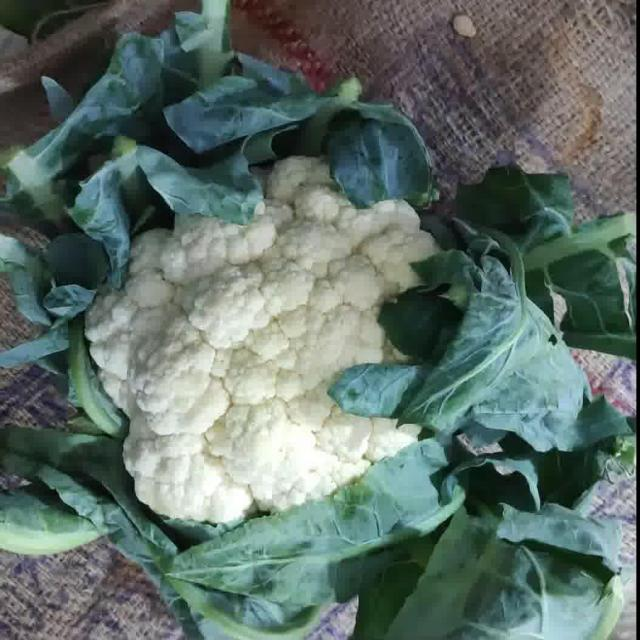Cauliflower: (84, 157, 462, 539)
